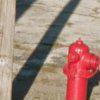Hydrant: (55, 29, 100, 100)
